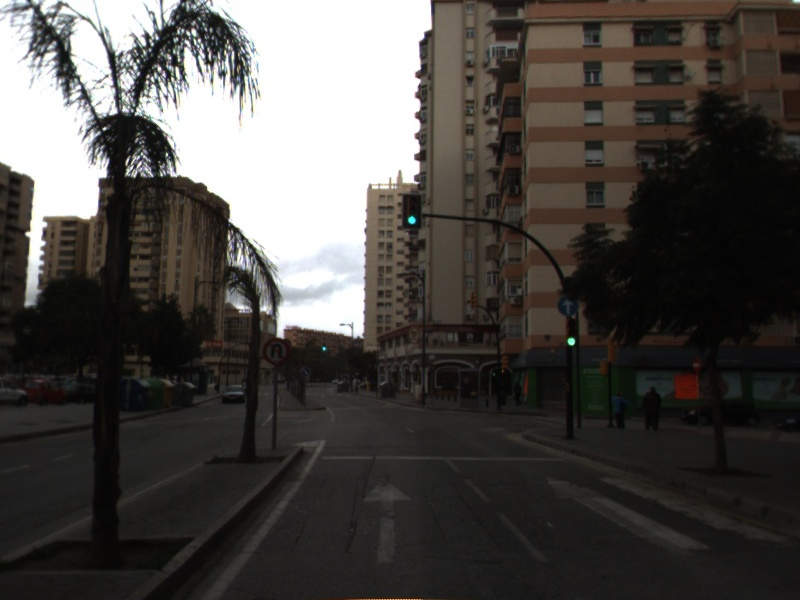STRAIGHT: (359, 472, 417, 566)
